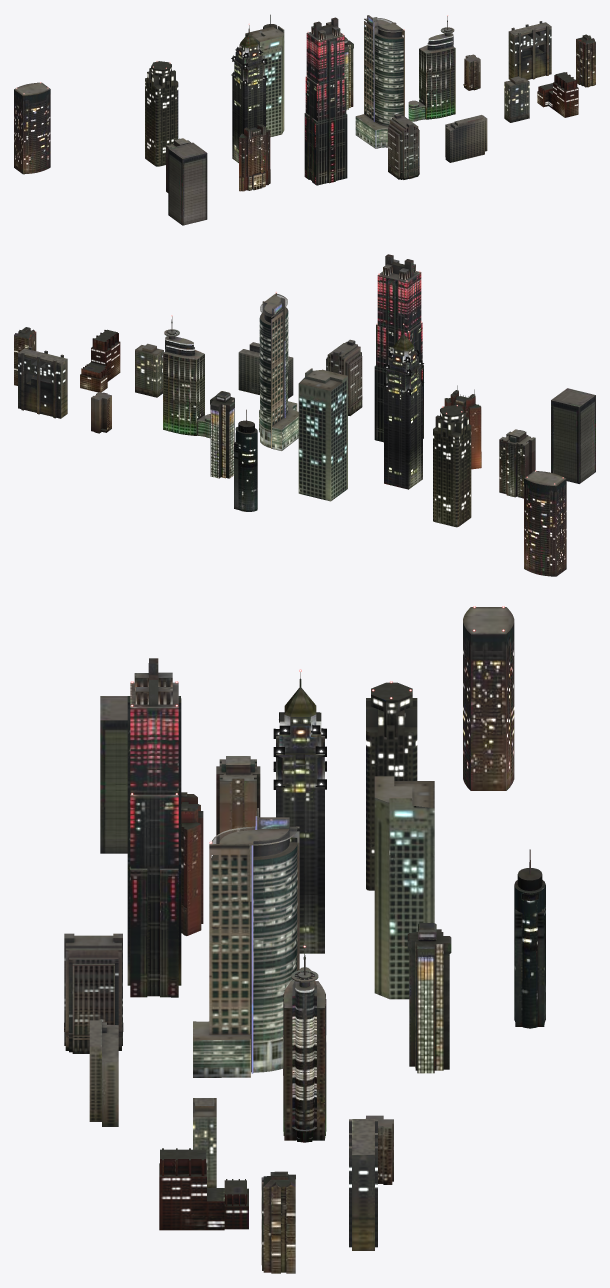
Rendered from city_buildings.glb.
The picture shows the model from 3 angles, top to bottom: view 1: azimuth 30°, elevation 25°; view 2: azimuth 150°, elevation 25°; view 3: azimuth 270°, elevation 25°; orthographic projection. The views are drawn at different scales.
Visible parts, largest first — view 1: BACKGROUND_BUILDINGS_1.009, BACKGROUND_BUILDING_2, BACKGROUND_BUILDINGS_1, BACKGROUND_BUILDINGS_1.007, BACKGROUND_BUILDING_2.008, BACKGROUND_BUILDINGS_1.002, BACKGROUND_BUILDINGS_1.008, BACKGROUND_BUILDING_2.007, BACKGROUND_BUILDING_2.005, BACKGROUND_BUILDINGS_1.004, BACKGROUND_BUILDING_2.001, BACKGROUND_BUILDING_2.002 (+5 smaller); view 2: BACKGROUND_BUILDING_2.007, BACKGROUND_BUILDINGS_1.008, BACKGROUND_BUILDINGS_1.009, BACKGROUND_BUILDING_2, BACKGROUND_BUILDING_2.008, BACKGROUND_BUILDINGS_1.007, BACKGROUND_BUILDINGS_1, BACKGROUND_BUILDINGS_1.002, BACKGROUND_BUILDING_2.005, BACKGROUND_BUILDINGS_1.001, BACKGROUND_BUILDINGS_1.003, BACKGROUND_BUILDINGS_1.006 (+7 smaller); view 3: BACKGROUND_BUILDING_2, BACKGROUND_BUILDINGS_1.009, BACKGROUND_BUILDING_2.007, BACKGROUND_BUILDINGS_1.007, BACKGROUND_BUILDINGS_1.008, BACKGROUND_BUILDINGS_1, BACKGROUND_BUILDING_2.001, BACKGROUND_BUILDINGS_1.006, BACKGROUND_BUILDING_2.004, BACKGROUND_BUILDING_2.008, BACKGROUND_BUILDINGS_1.001, BACKGROUND_BUILDINGS_1.002 (+7 smaller).
Boxes of the visible parts, x1,y1,x2,y2 form: BACKGROUND_BUILDINGS_1.009: [304, 17, 347, 185]; BACKGROUND_BUILDING_2: [355, 15, 404, 148]; BACKGROUND_BUILDINGS_1: [408, 16, 455, 121]; BACKGROUND_BUILDINGS_1.007: [14, 82, 50, 174]; BACKGROUND_BUILDING_2.008: [145, 61, 178, 166]; BACKGROUND_BUILDINGS_1.002: [168, 142, 207, 225]; BACKGROUND_BUILDINGS_1.008: [232, 25, 265, 162]; BACKGROUND_BUILDING_2.007: [245, 26, 284, 137]; BACKGROUND_BUILDING_2.005: [508, 21, 551, 80]; BACKGROUND_BUILDINGS_1.004: [239, 124, 270, 191]; BACKGROUND_BUILDING_2.001: [388, 113, 419, 179]; BACKGROUND_BUILDING_2.002: [445, 115, 487, 162]; BACKGROUND_BUILDING_2.007: [298, 368, 347, 501]; BACKGROUND_BUILDINGS_1.008: [384, 325, 422, 489]; BACKGROUND_BUILDINGS_1.009: [374, 254, 423, 442]; BACKGROUND_BUILDING_2: [259, 293, 298, 450]; BACKGROUND_BUILDING_2.008: [433, 405, 471, 527]; BACKGROUND_BUILDINGS_1.007: [524, 471, 566, 576]; BACKGROUND_BUILDINGS_1: [163, 316, 210, 438]; BACKGROUND_BUILDINGS_1.002: [551, 388, 595, 483]; BACKGROUND_BUILDING_2.005: [18, 346, 67, 418]; BACKGROUND_BUILDINGS_1.001: [234, 409, 257, 511]; BACKGROUND_BUILDINGS_1.003: [499, 429, 535, 498]; BACKGROUND_BUILDINGS_1.006: [210, 391, 234, 478]; BACKGROUND_BUILDING_2: [193, 808, 299, 1077]; BACKGROUND_BUILDINGS_1.009: [127, 658, 181, 997]; BACKGROUND_BUILDING_2.007: [374, 776, 434, 999]; BACKGROUND_BUILDINGS_1.007: [463, 607, 514, 790]; BACKGROUND_BUILDINGS_1.008: [276, 672, 324, 953]; BACKGROUND_BUILDINGS_1: [283, 947, 326, 1142]; BACKGROUND_BUILDING_2.001: [64, 933, 123, 1053]; BACKGROUND_BUILDINGS_1.006: [407, 923, 451, 1073]; BACKGROUND_BUILDING_2.004: [159, 1148, 248, 1230]; BACKGROUND_BUILDING_2.008: [366, 682, 417, 890]; BACKGROUND_BUILDINGS_1.001: [514, 849, 545, 1028]; BACKGROUND_BUILDINGS_1.002: [100, 696, 127, 853].
Size of the model in its own units: 1049 by 301 by 419.
Materials: 4 (4 with a texture image).
